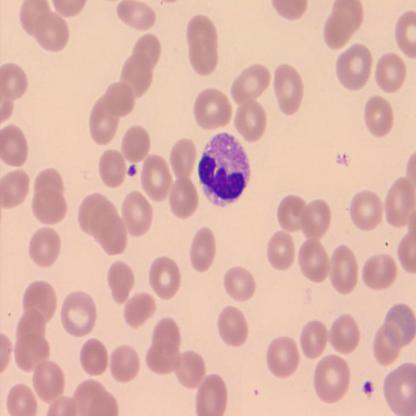Segmented neutrophil: (195, 130, 252, 209)
